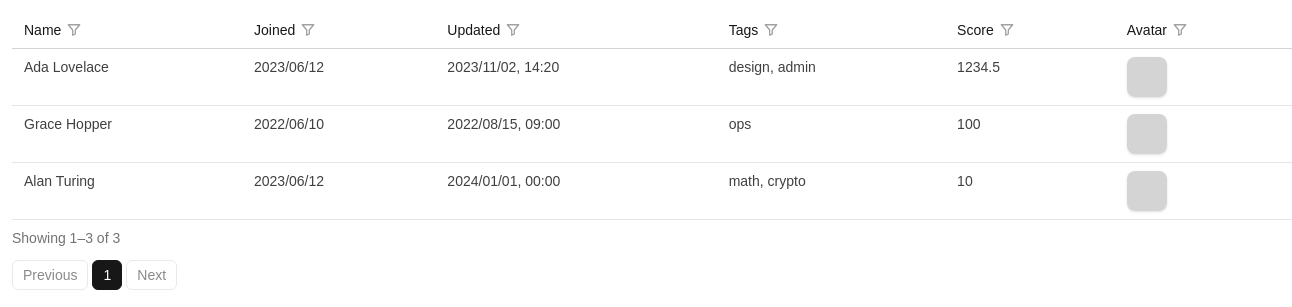
Test: Table local filter › matches text filters case-insensitively on containment and updates the summary
This screenshot has width=1292, height=307.
Click the button named "Filter Name": (74, 30) left=65, top=21, right=83, bottom=39
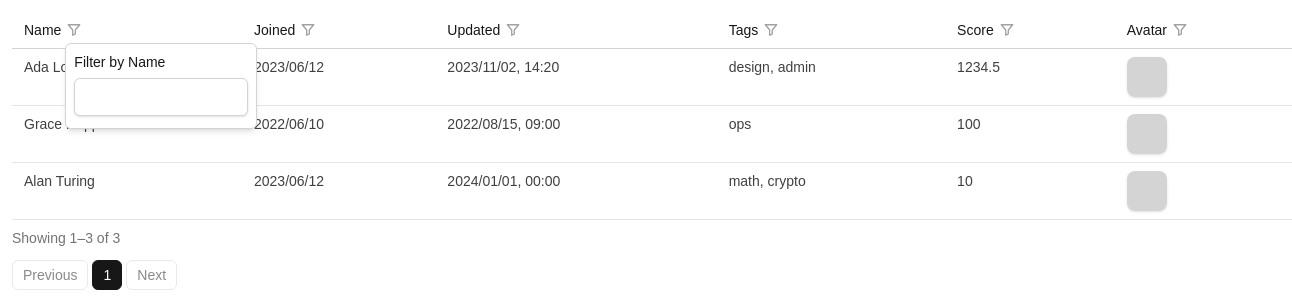
In the field labelled "Filter by Name": (161, 97) left=74, top=78, right=248, bottom=116, type "LOVE"
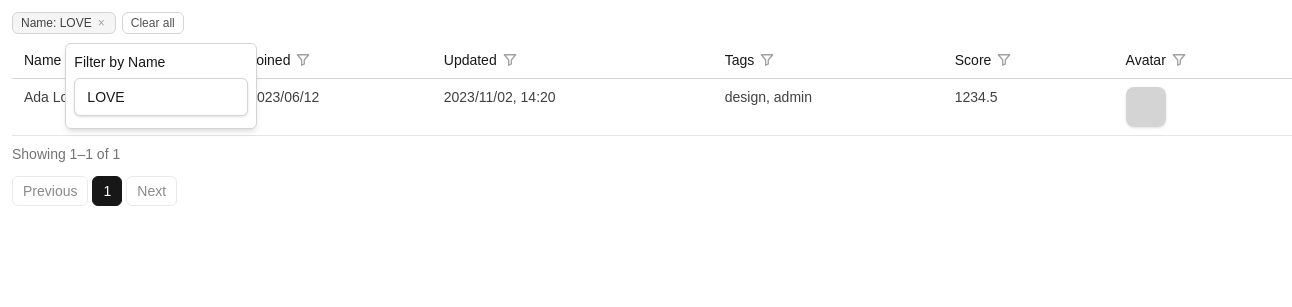
Check: the text "Grace Hopper" is gone
Check: the text "Alan Turing" is gone
Check: the message reads "Showing 1–1 of 1", box left=12, top=146, right=120, bottom=162
